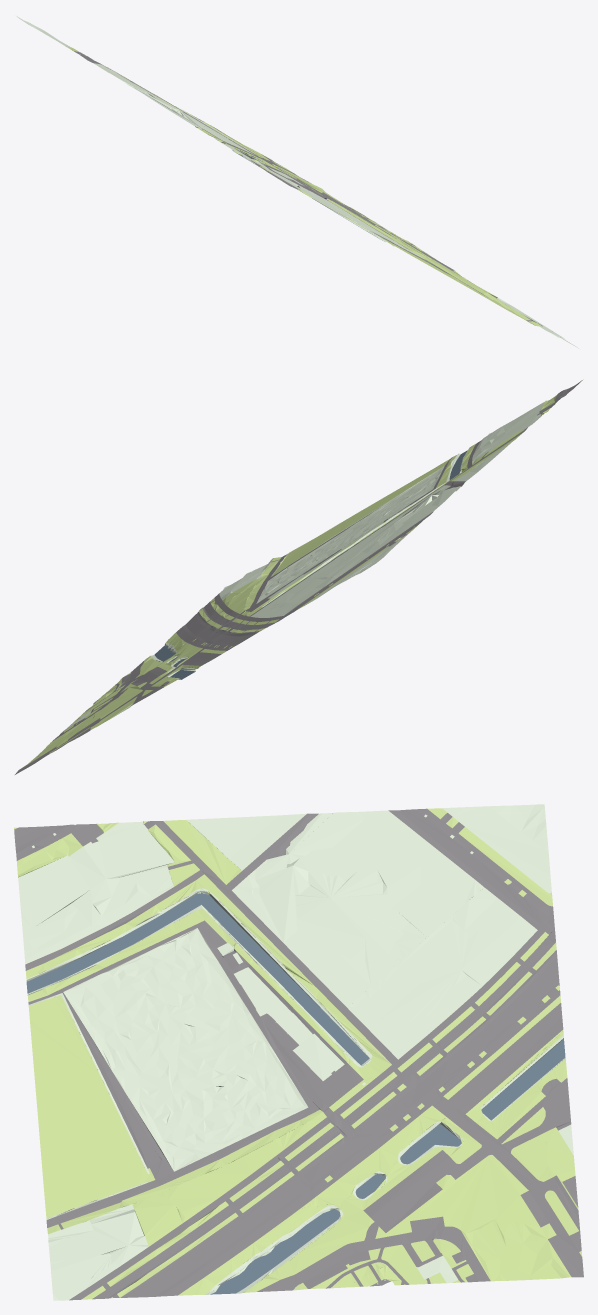
3 views of the same model, one above another, from view 1: azimuth 30°, elevation 25°; view 2: azimuth 150°, elevation 25°; view 3: azimuth 270°, elevation 25° (orthographic). The views are drawn at different scales.
Size of the model in its own units: 218 by 156 by 268.
